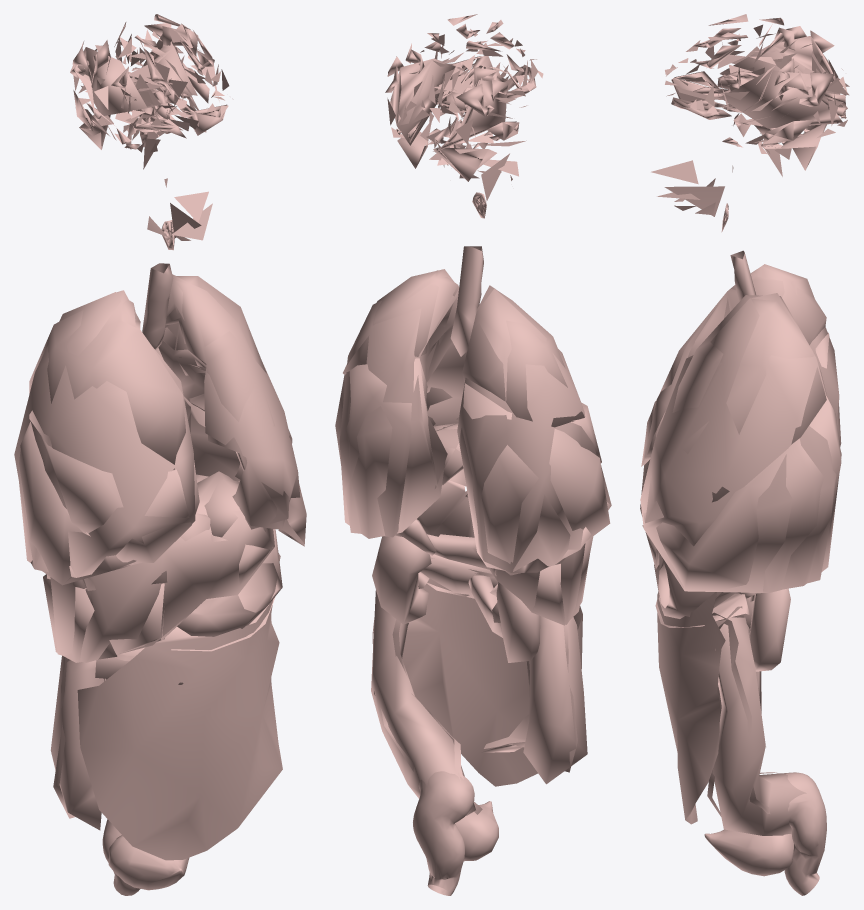
File: lod0-organ.glb
3 views of the same model, side by side, from view 1: azimuth 30°, elevation 25°; view 2: azimuth 150°, elevation 25°; view 3: azimuth 270°, elevation 25° (orthographic). The views are drawn at different scales.
Parts seen in each view (by area): view 1: organ::torso, organ::head, organ::leg-left; view 2: organ::torso, organ::head, organ::leg-left; view 3: organ::torso, organ::head, organ::leg-left.
Boxes of the visible parts, x1,y1,x2,y2 form: organ::torso: (14,103,306,860); organ::head: (70,14,233,250); organ::leg-left: (102,819,189,895); organ::torso: (335,246,611,815); organ::head: (385,14,543,218); organ::leg-left: (413,771,498,895); organ::torso: (640,104,841,835); organ::head: (651,14,849,232); organ::leg-left: (704,772,826,895).
Size of the model in its own units: 0.2622 by 0.8908 by 0.1946.
